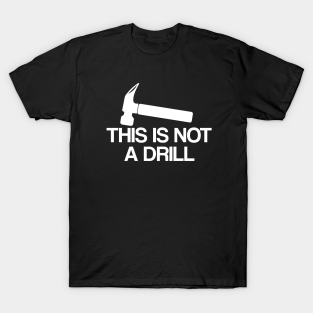design: (104, 80, 214, 163)
